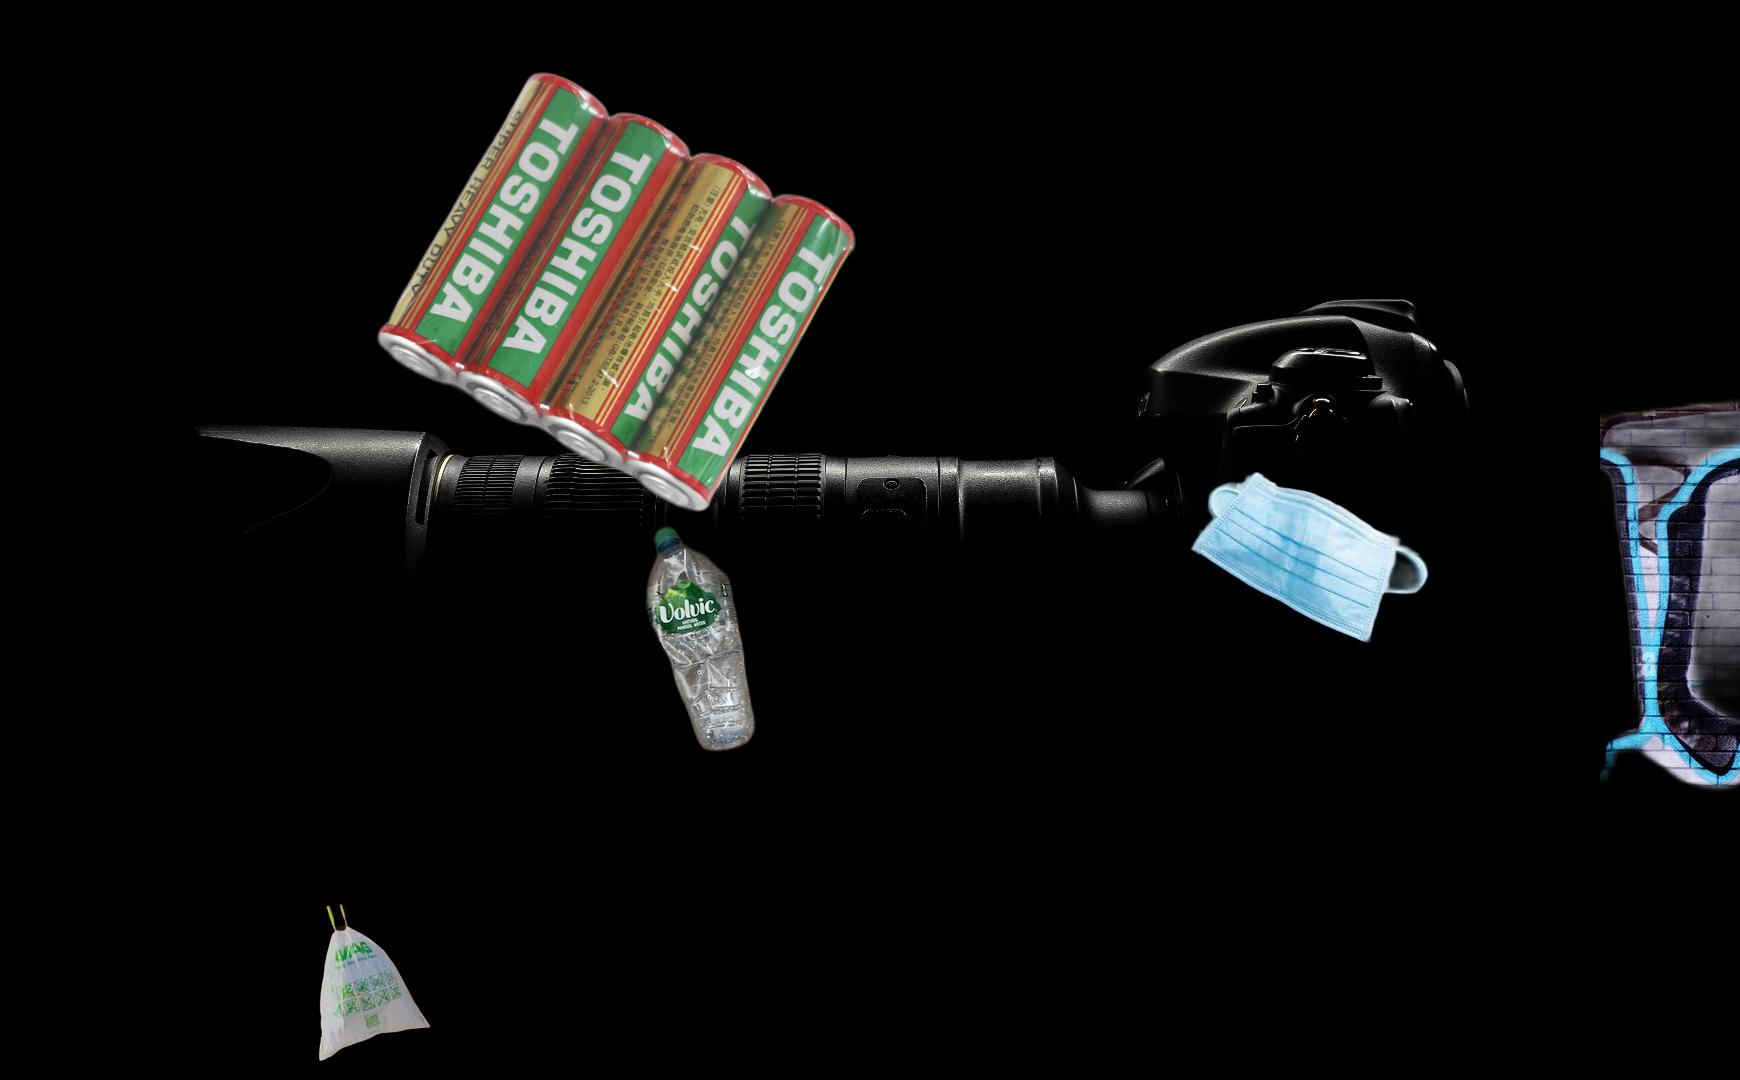battery: (372, 66, 862, 518)
plastic-bag: (316, 901, 432, 1063)
plastic-bottles: (641, 520, 759, 756)
trash: (1187, 467, 1432, 646)
trashbox-cardboard: (1599, 320, 1740, 1008)
